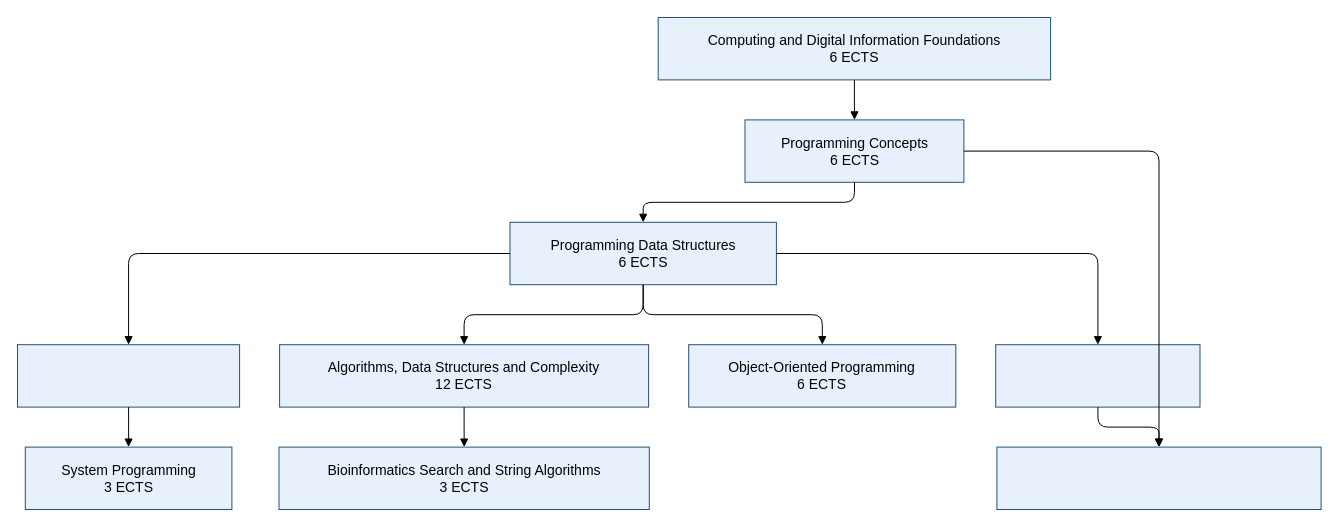
Image size: 1339x527. Some labels were removed from this diagram. Here are the shapes that lost their labels. From the top down, the box of each, then its label:
(16, 344, 240, 407): C and C++ Programming 6 ECTS
(995, 344, 1200, 407): Python Programming 6 ECTS
(996, 446, 1321, 510): Scientific and Numerical Programming 9 ECTS
